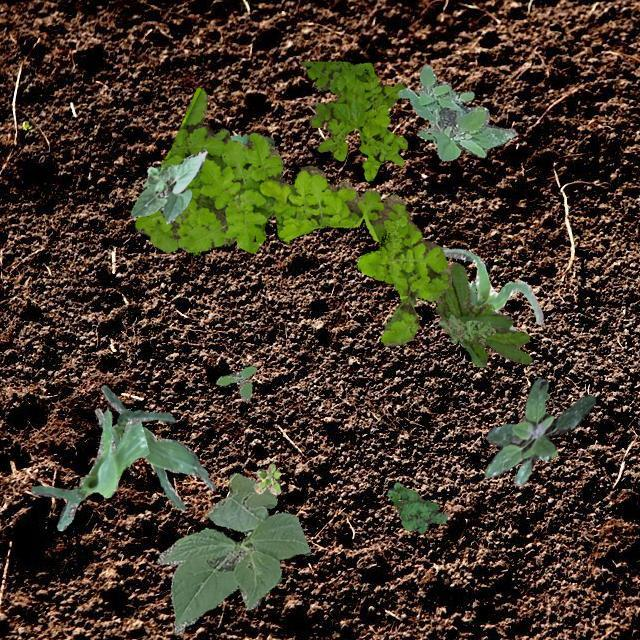crop: (156, 472, 310, 634), (94, 384, 214, 510), (29, 408, 148, 530), (440, 247, 542, 323), (130, 148, 207, 222), (228, 134, 274, 148)
weed: (134, 86, 450, 344), (300, 60, 406, 180), (484, 376, 594, 486), (396, 64, 514, 160), (434, 262, 530, 366), (387, 482, 448, 532), (438, 314, 494, 344), (214, 364, 256, 402), (252, 462, 280, 493)
